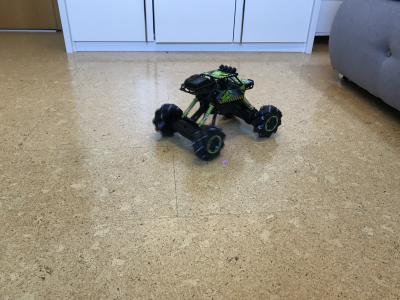remote control car: (149, 62, 286, 163)
